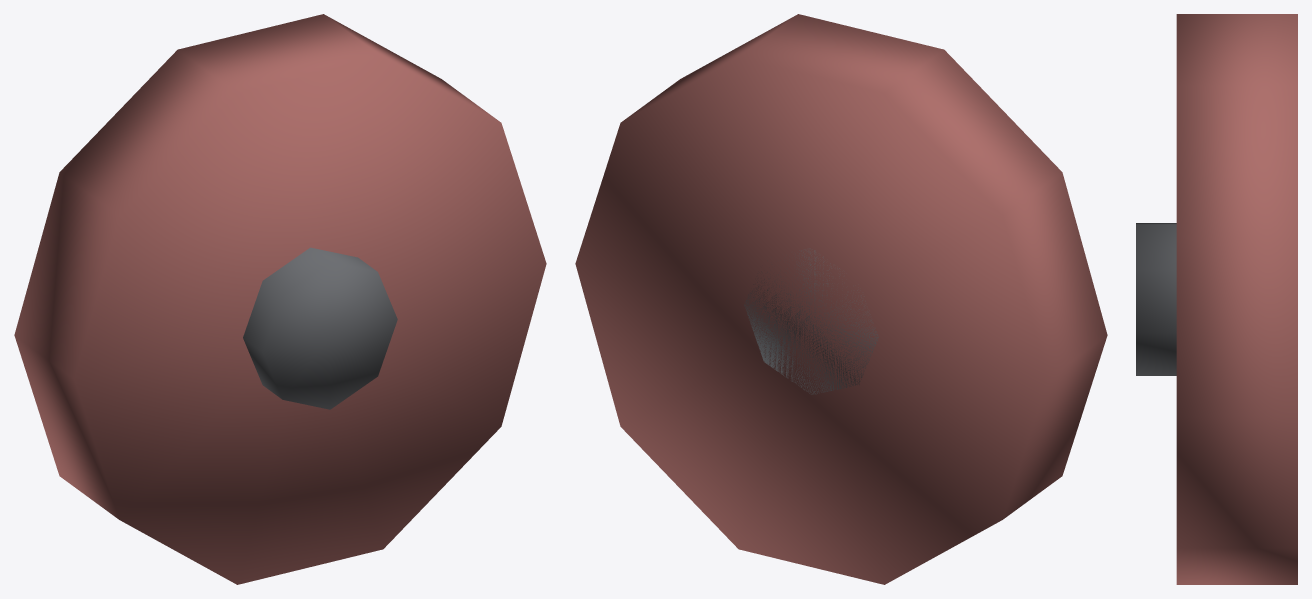
Rendered from hose_reel_01.glb.
The picture shows the model from 3 angles, left to right: view 1: azimuth 30°, elevation 25°; view 2: azimuth 150°, elevation 25°; view 3: azimuth 270°, elevation 25°; orthographic projection.
Visible parts, largest first — view 1: world; view 2: world; view 3: world.
Boxes of the visible parts, x1,y1,x2,y2 form: world: [14, 14, 546, 584]; world: [575, 14, 1107, 584]; world: [1136, 14, 1297, 584].
Bounding box in the file's own units: 0.4928 × 0.49 × 0.144.
